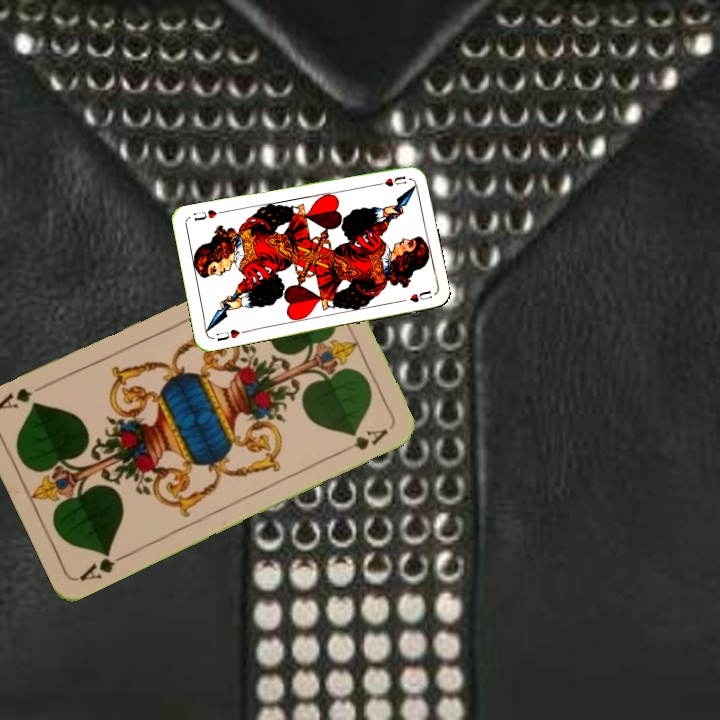GA: (75, 546, 131, 585)
HU: (212, 325, 249, 344), (380, 172, 409, 189)
